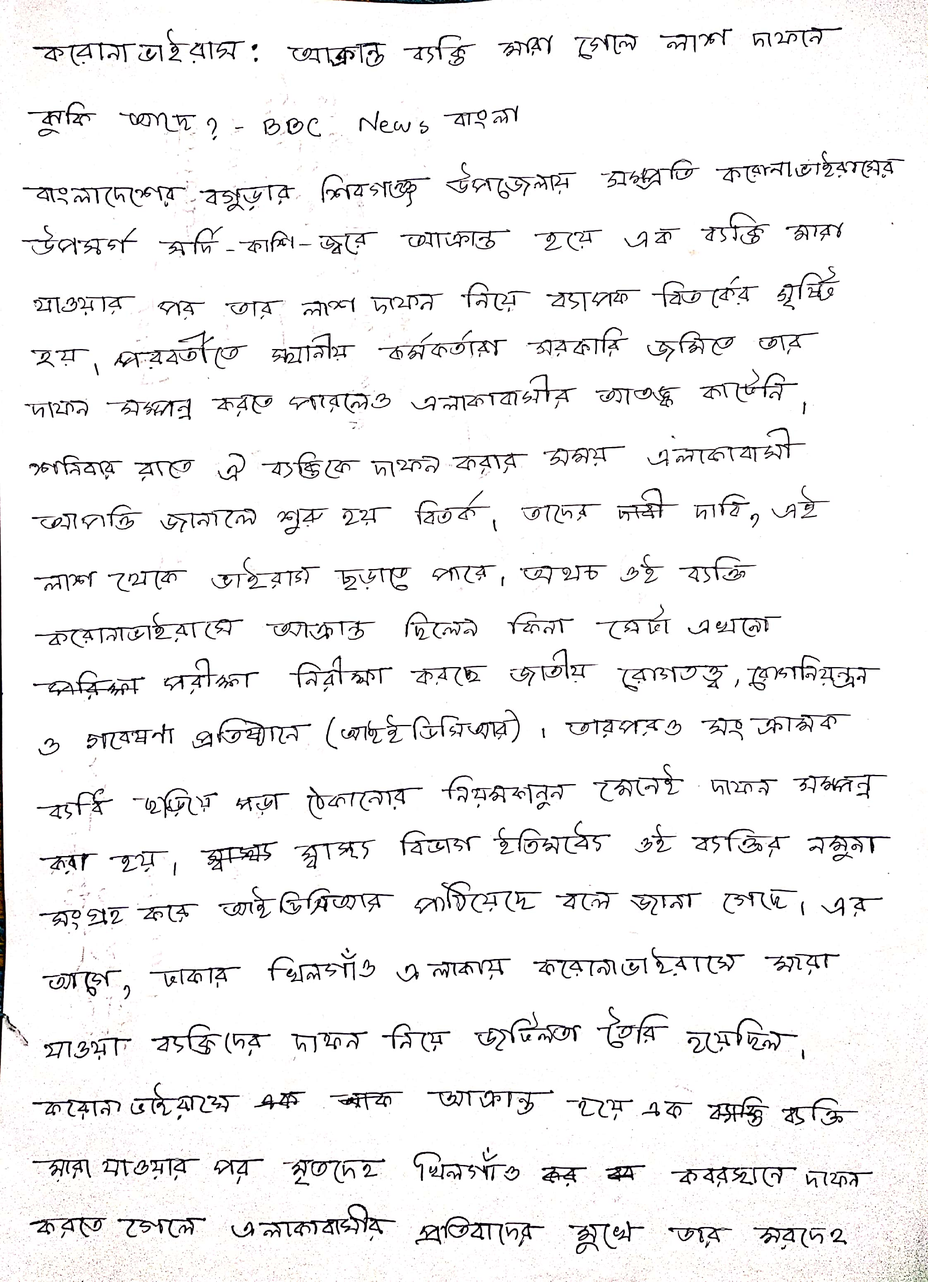line: (28, 150, 906, 211), (37, 763, 887, 820), (36, 648, 881, 702), (41, 822, 891, 875), (28, 1202, 846, 1254), (31, 267, 841, 319), (44, 945, 841, 997), (26, 369, 815, 421), (37, 708, 850, 758), (32, 1079, 858, 1128), (32, 427, 805, 479), (42, 882, 883, 928), (43, 1006, 807, 1056), (34, 326, 820, 374), (33, 486, 829, 533), (33, 1146, 873, 1189), (24, 212, 843, 256), (34, 25, 844, 67), (36, 603, 782, 648), (37, 554, 753, 594), (28, 101, 521, 140)
